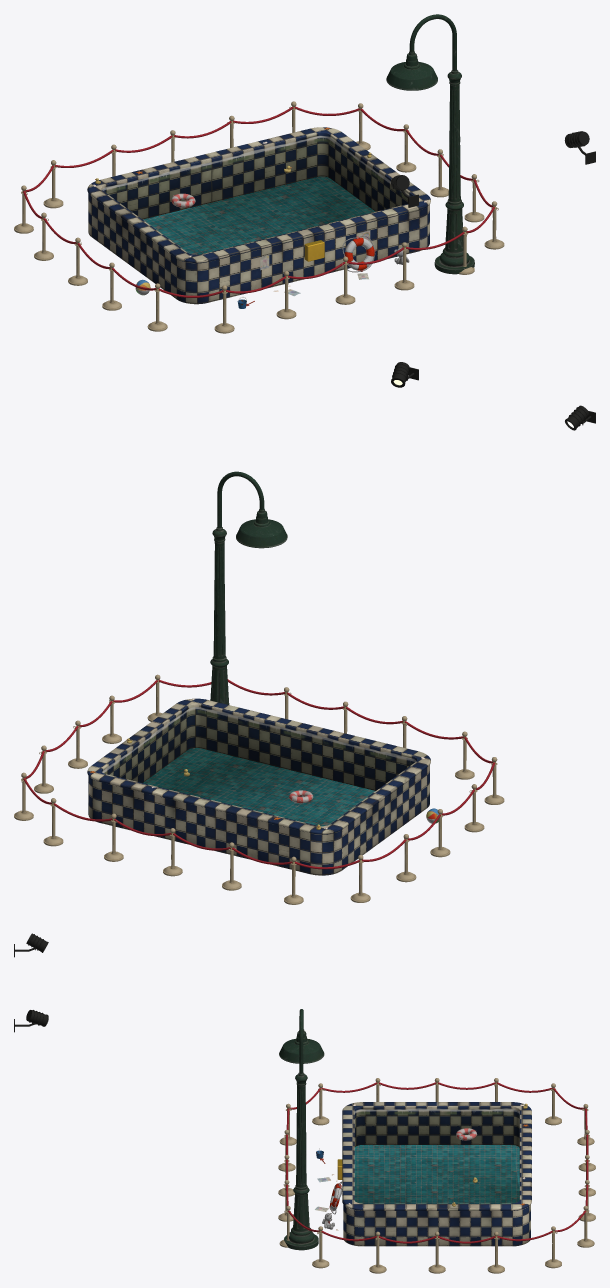
File: sala_vasca_centrale.glb
3 renders of one model, top to bottom at view 1: azimuth 30°, elevation 25°; view 2: azimuth 150°, elevation 25°; view 3: azimuth 270°, elevation 25°, orthographic. The views are drawn at different scales.
Parts seen in each view (by area): view 1: sala_vasca_centrale, amb_lampione, sala_vasca_cordone, sala_vasca_centrale_calcare, sala_monumento_fari, ogg_salvagente_nave_36, sala_vasca_offerte; view 2: sala_vasca_centrale, amb_lampione, sala_vasca_cordone, sala_vasca_centrale_calcare, sala_monumento_fari; view 3: sala_vasca_centrale, amb_lampione, sala_vasca_cordone, sala_vasca_centrale_calcare, sala_monumento_fari.
Boxes of the visible parts, left/top/right/bottom form: sala_vasca_centrale: left=87, top=127, right=430, bottom=304; amb_lampione: left=386, top=14, right=474, bottom=274; sala_vasca_cordone: left=22, top=106, right=495, bottom=297; sala_vasca_centrale_calcare: left=102, top=135, right=409, bottom=199; sala_monumento_fari: left=391, top=131, right=595, bottom=207; ogg_salvagente_nave_36: left=342, top=235, right=375, bottom=272; sala_vasca_offerte: left=93, top=127, right=426, bottom=308; sala_vasca_centrale: left=87, top=698, right=430, bottom=875; amb_lampione: left=210, top=471, right=287, bottom=704; sala_vasca_cordone: left=22, top=679, right=495, bottom=869; sala_vasca_centrale_calcare: left=102, top=707, right=415, bottom=773; sala_monumento_fari: left=391, top=362, right=595, bottom=430; sala_vasca_centrale: left=337, top=1102, right=531, bottom=1246; amb_lampione: left=279, top=1009, right=324, bottom=1250; sala_vasca_cordone: left=285, top=1082, right=588, bottom=1243; sala_vasca_centrale_calcare: left=354, top=1108, right=519, bottom=1116; sala_monumento_fari: left=14, top=933, right=48, bottom=1032.
Size of what is drawn, in the model's own units: 9.01 by 5.81 by 13.75.
Materials: 22 (18 with a texture image).
